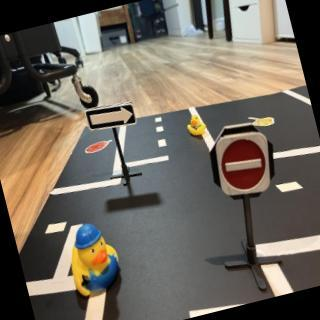duck_regular: (184, 111, 210, 140)
duck_specialty: (62, 219, 127, 302)
sign_noentry: (209, 129, 279, 202)
sign_oneway_right: (85, 101, 138, 137)
